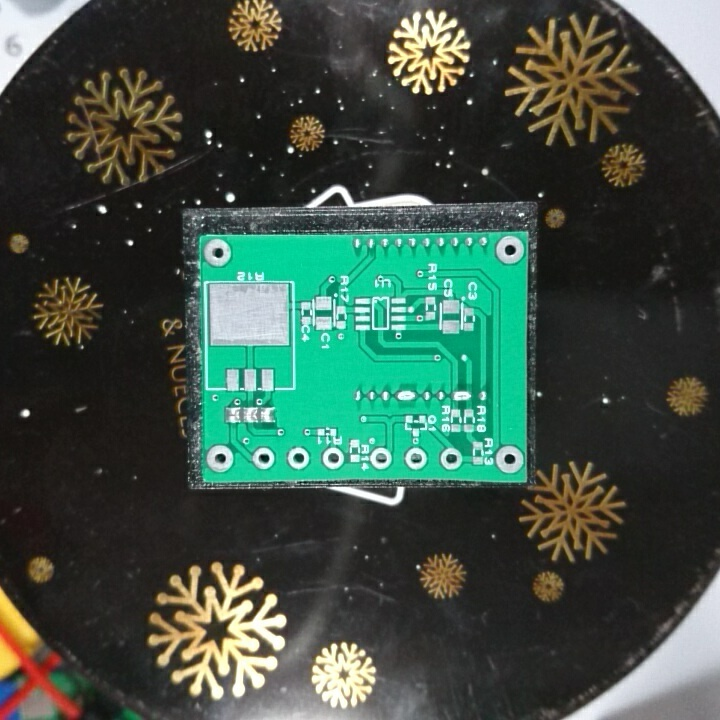F: (494, 444, 527, 478), (203, 442, 236, 475), (203, 238, 236, 269), (495, 234, 525, 266), (437, 444, 465, 474), (320, 445, 346, 476), (403, 444, 429, 473), (370, 444, 397, 471), (285, 445, 311, 470), (250, 448, 278, 471)
P: (394, 385, 421, 407), (450, 384, 474, 406)
